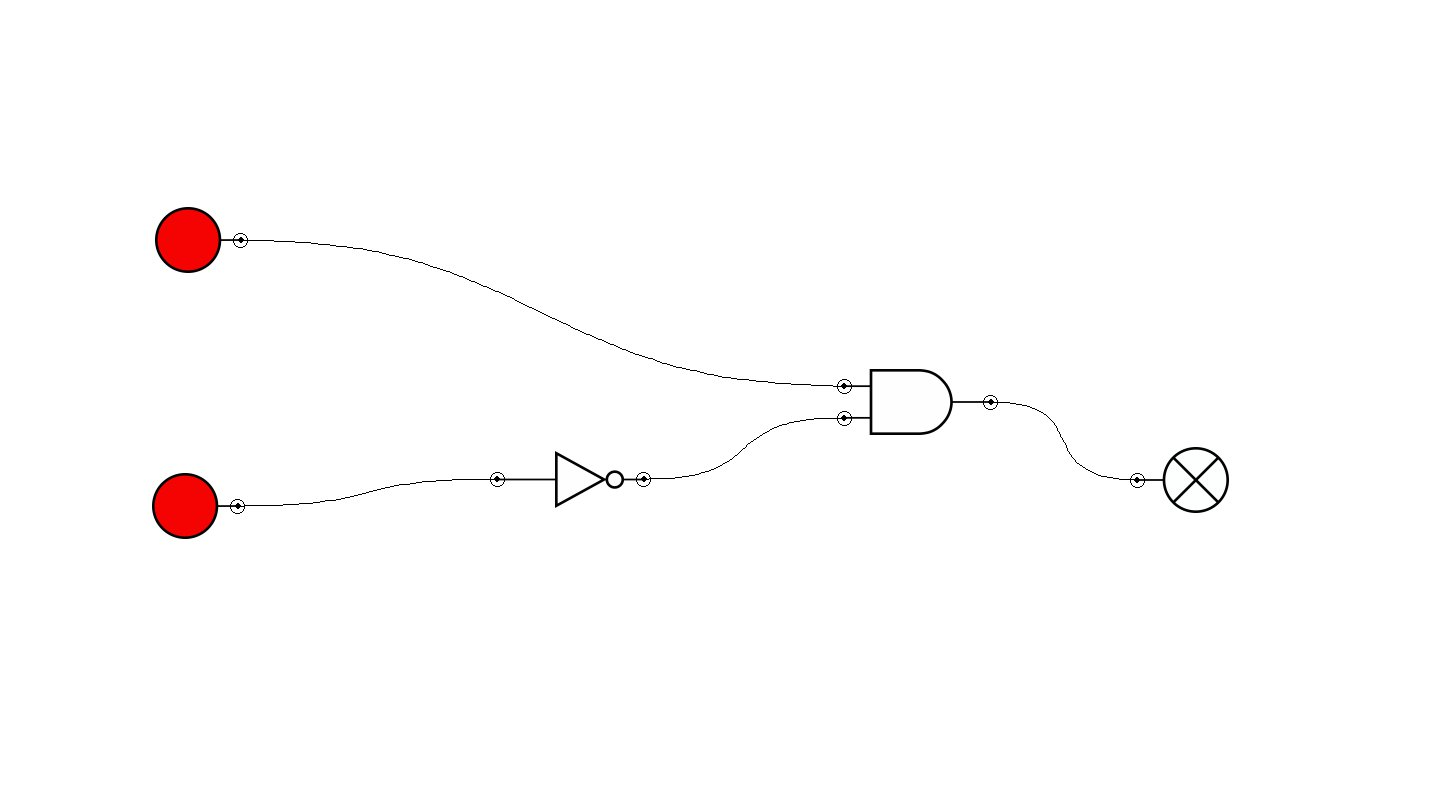and: (837, 369, 998, 435)
bulb: (1130, 447, 1229, 513)
not: (490, 451, 651, 508)
switch_False: (155, 207, 248, 273), (152, 473, 245, 539)
